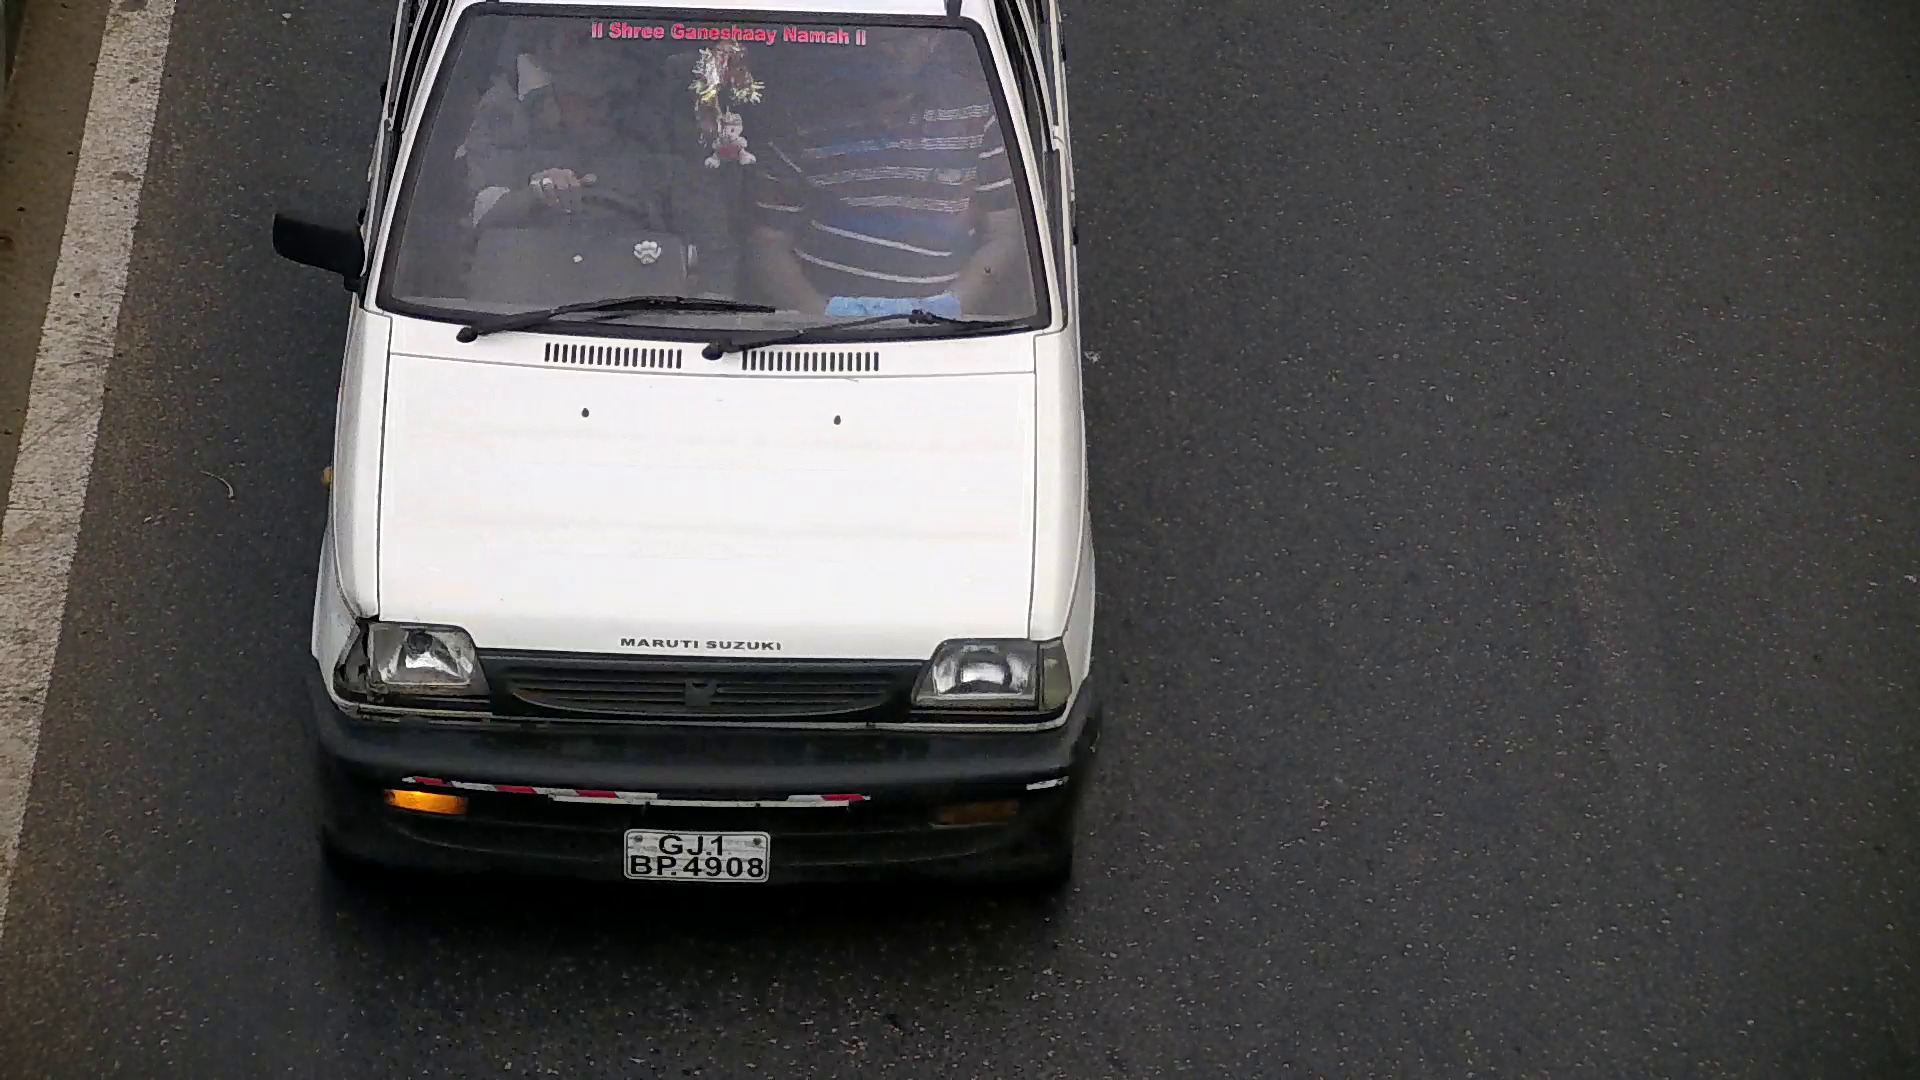doublelinenumberplate: (619, 823, 776, 888)
